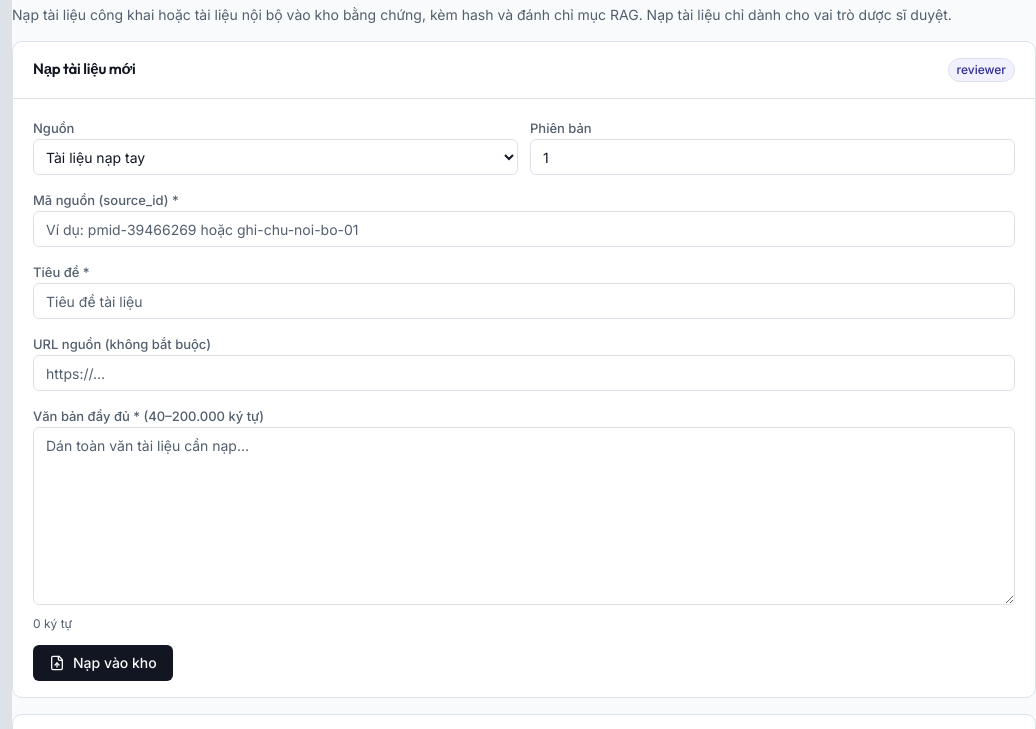
Test: /admin/ingestion — gửi biểu mẫu › gửi biểu mẫu hợp lệ thì hiện kết quả nạp kèm nhãn tiếng Việt cho cờ chất lượng
Type "ghi-chu-noi-bo-01" into the field labelled "Mã nguồn (source_id) *" at (524, 229), box [33,211,1015,247]
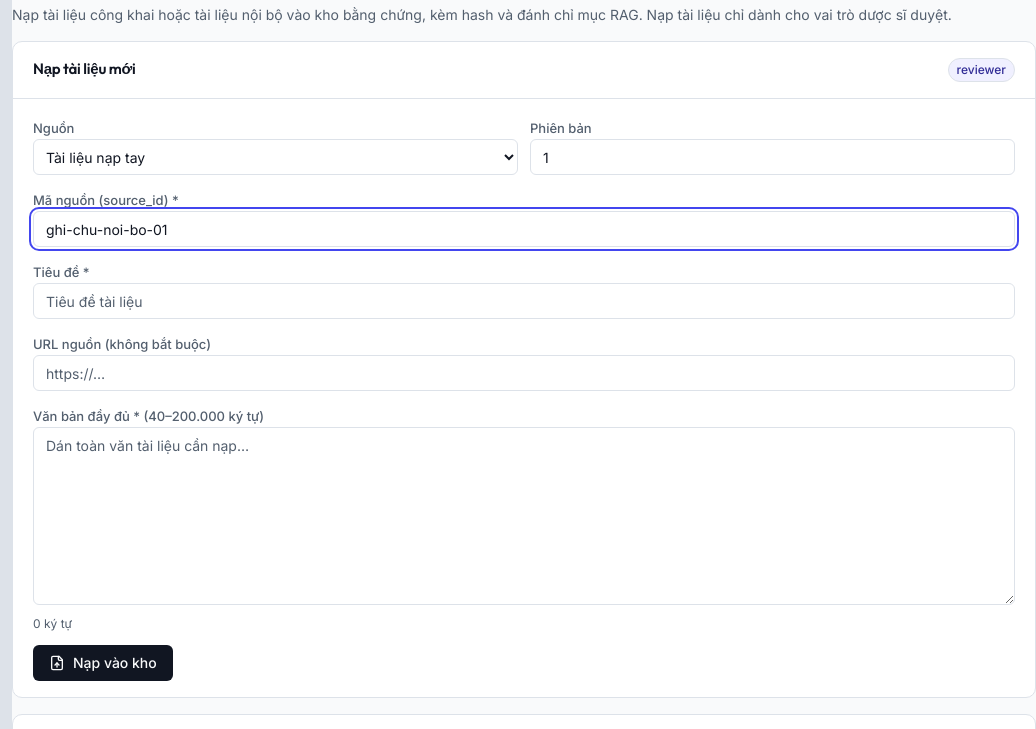
Type "Ghi chú nội bộ về ibuprofen" into the field labelled "Tiêu đề *" at (524, 301), box [33,283,1015,319]
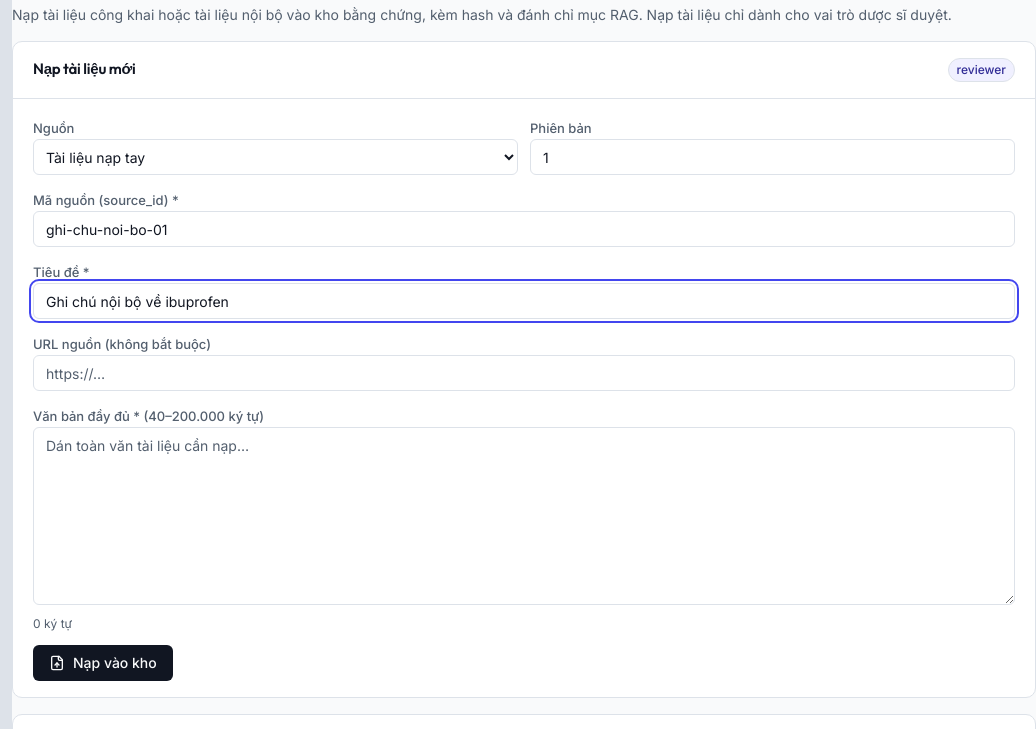
Type "Ibuprofen làm tăng nguy cơ xuất huyết tiêu hoá ở bệnh nhân trên 65 tuổi; ghi chú nội bộ của dược sĩ duyệt." into the text box labelled "Văn bản đầy đủ * (40–200.000 ký tự)" at (524, 516), box [33,427,1015,605]
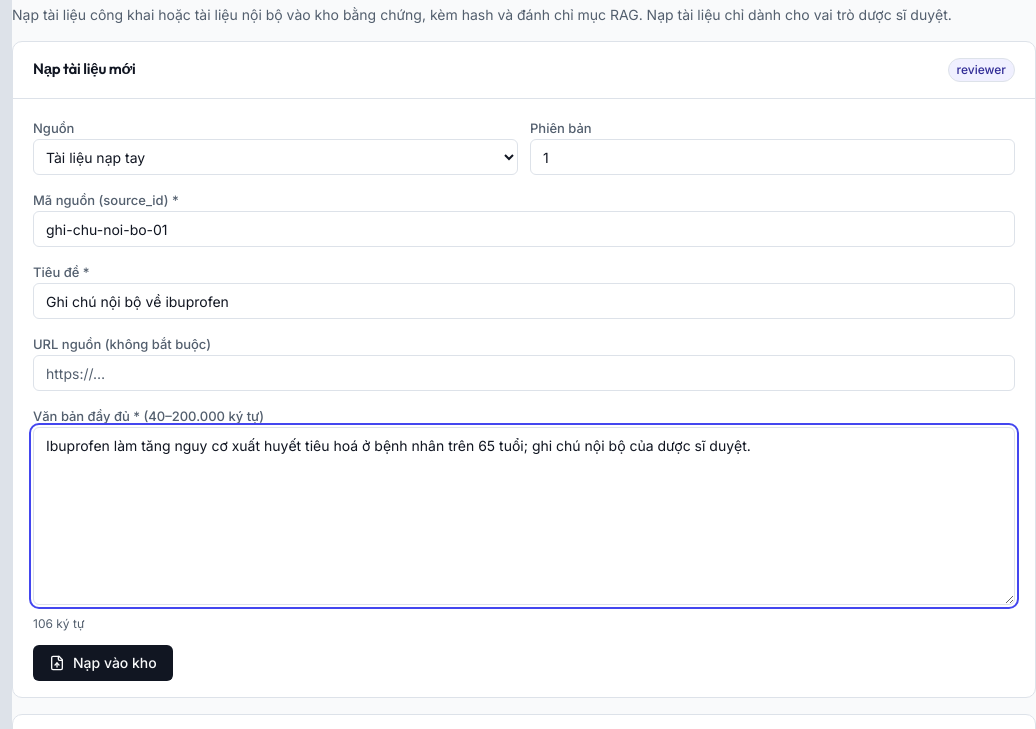
Click the button "Nạp vào kho" at (103, 663), box [33,645,173,681]
(page scrolled)
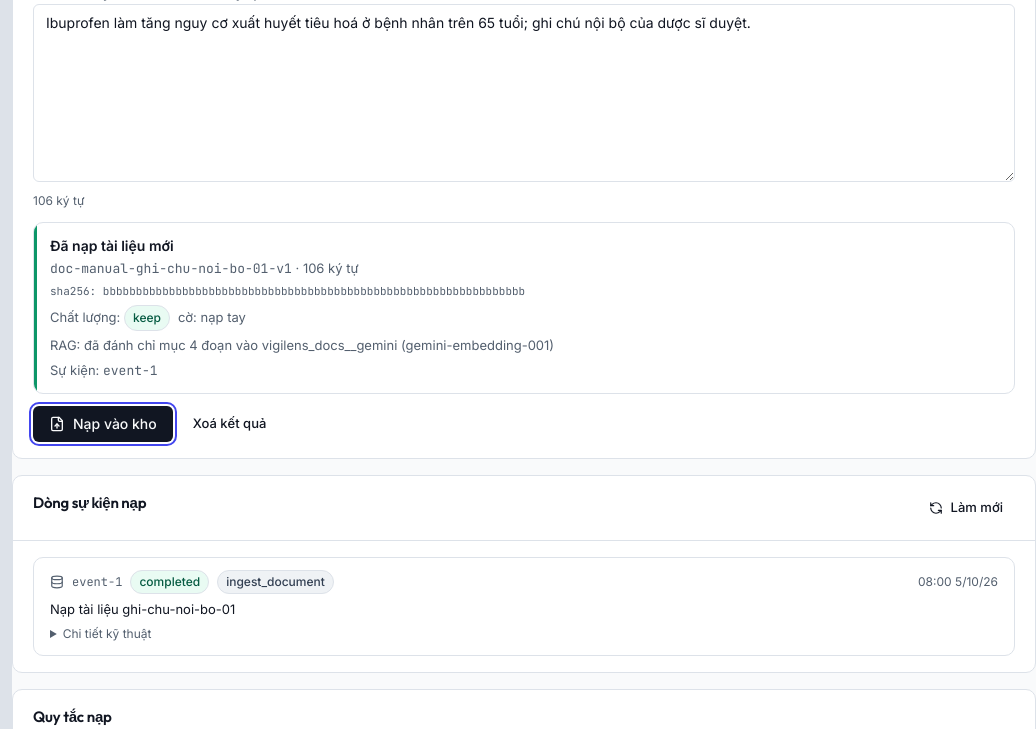
Result: the text "Đã nạp tài liệu mới" is shown at [50,237,174,254]
Result: the text "doc-manual-ghi-chu-noi-bo-01-v1" is shown at [50,260,292,277]
Result: the text "cờ: nạp tay" is shown at [178,309,246,325]
